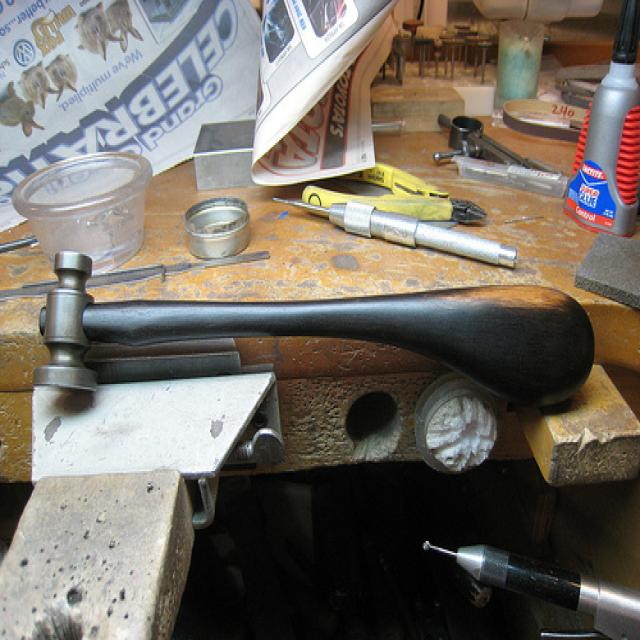hammer: (16, 222, 598, 436)
